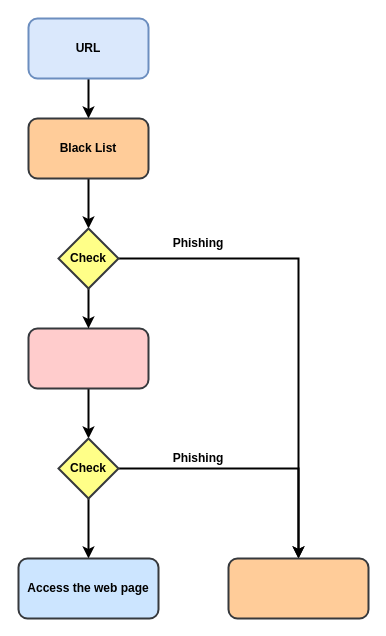
The diagram is 386 pixels wide and 636 high, and some of its shapes have lost their labels. Here are the shapes that lost their labels. From the top down, the centre of each, then its label:
At (88,358): "Phishing model".
At (298,588): "Phishing alert Send email to guardian".
